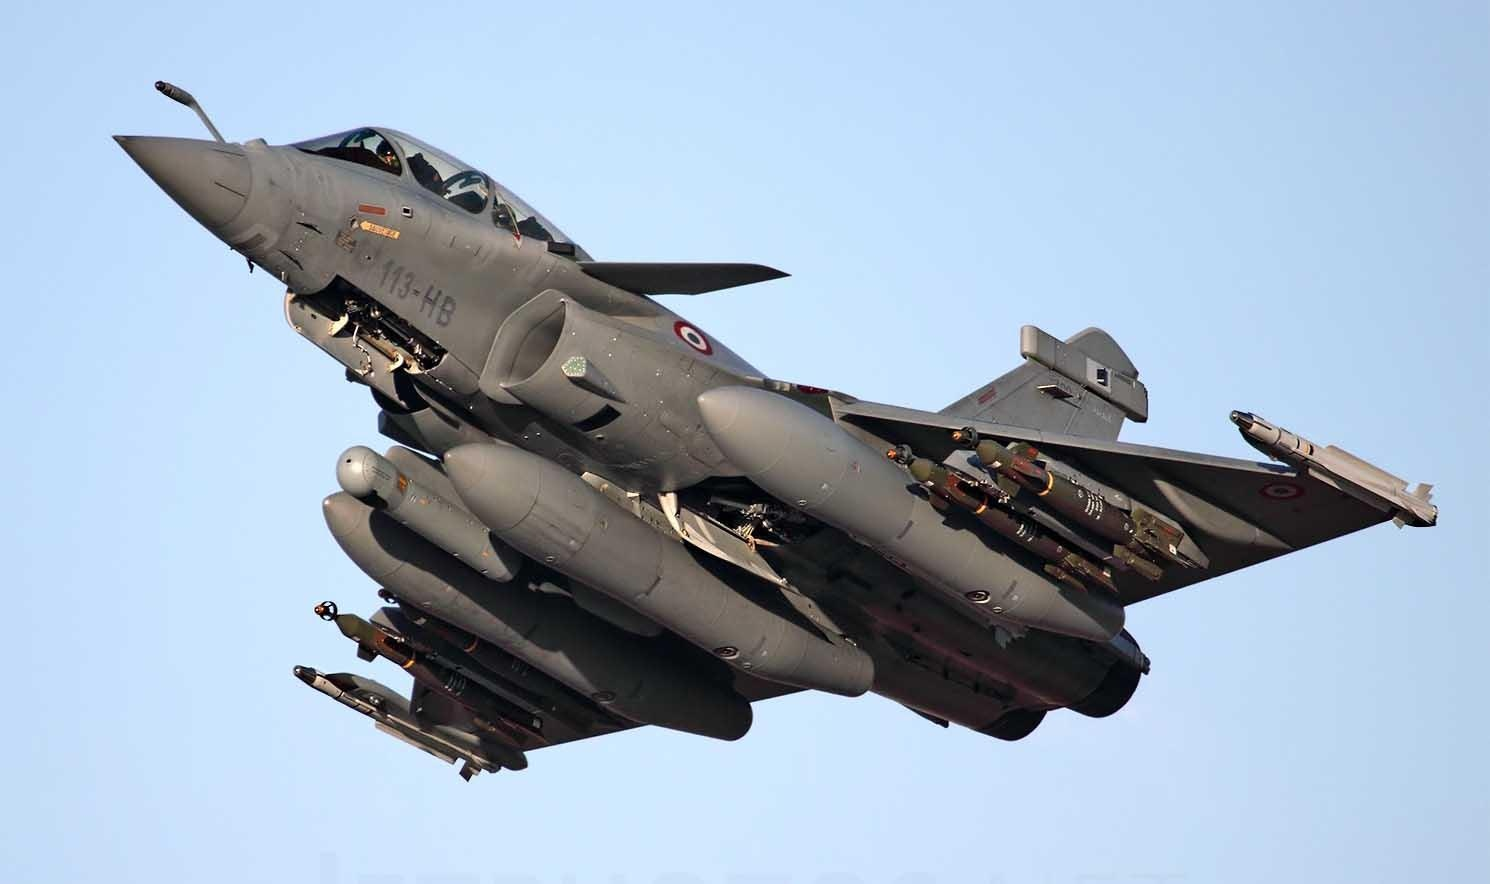airplane: (108, 62, 1441, 772)
